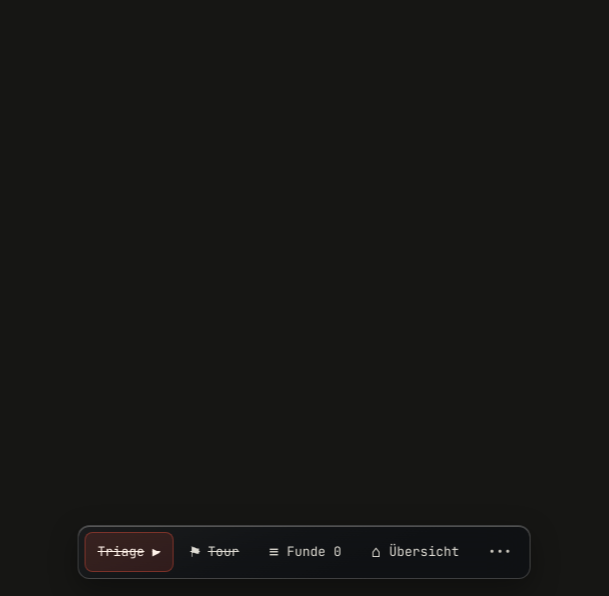
the update check answers what it actually found › says the same in German, without claiming a newest stand
Click the button with id "city-more-button".
click(500, 552)  # box x1=476 y1=532 x2=524 y2=572
(page scrolled)
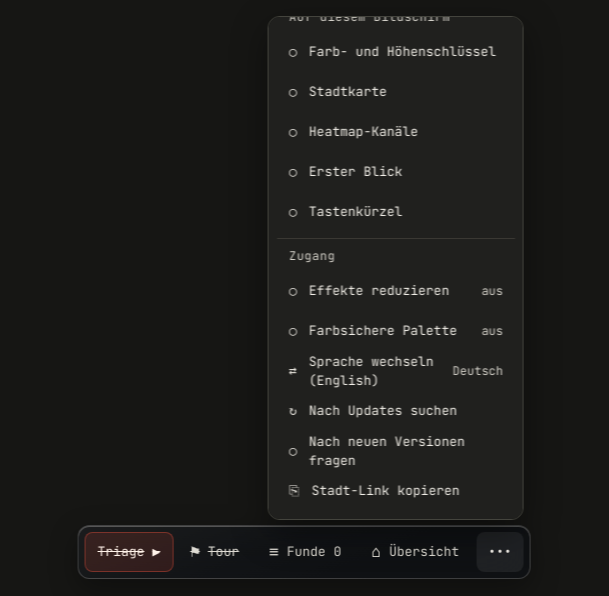
Expected: the menu item "↻ Nach Updates suchen" is shown
Click the menu item "↻ Nach Updates suchen".
click(396, 411)  # box x1=276 y1=391 x2=514 y2=431
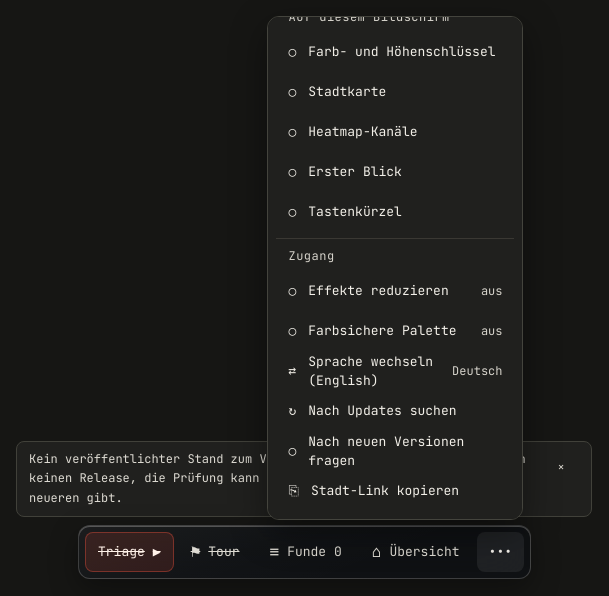
Expected: the message is shown, x1=16 y1=440 x2=592 y2=517
Expected: the message shows "Kein veröffentlichter Stand zum Vergleichen", x1=29 y1=450 x2=526 y2=506
